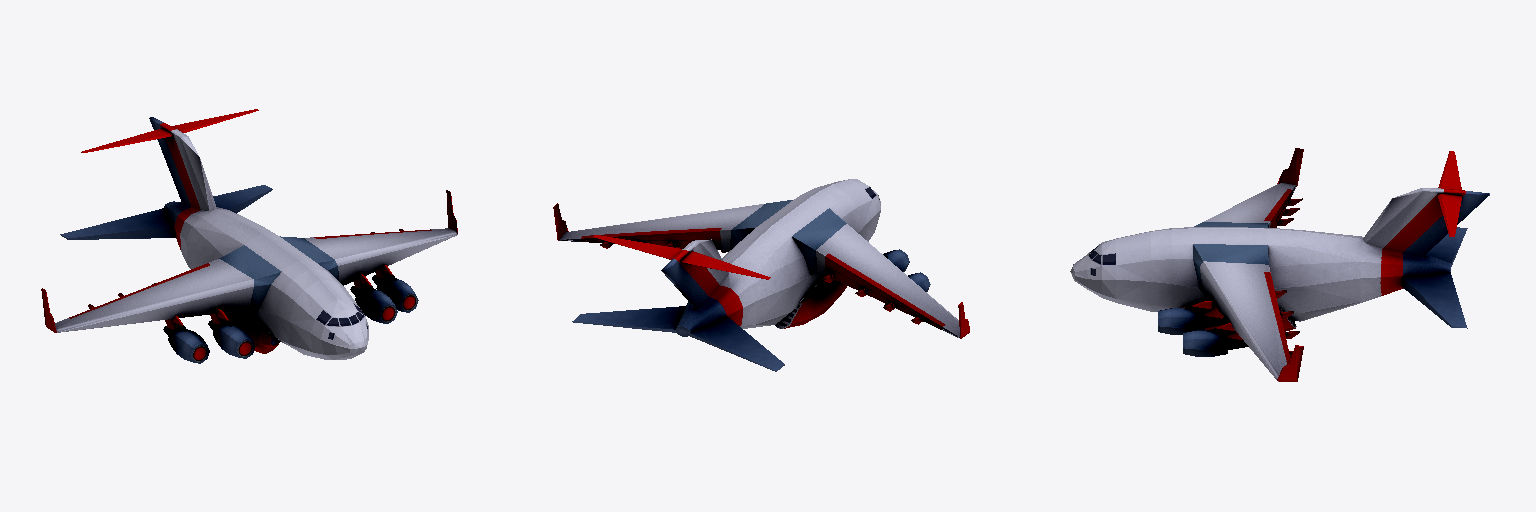
3 renders of one model, left to right at view 1: azimuth 30°, elevation 25°; view 2: azimuth 150°, elevation 25°; view 3: azimuth 270°, elevation 25°, orthographic.
Parts seen in each view (by area): view 1: Catoon_C17; view 2: Catoon_C17; view 3: Catoon_C17.
Part boxes in pixels (bbox=[...]): Catoon_C17: bbox=[41, 109, 457, 363]; Catoon_C17: bbox=[553, 179, 969, 371]; Catoon_C17: bbox=[1070, 148, 1489, 381].
Bounding box in the file's own units: 92.07 × 28.93 × 82.4.
1 materials, 1 textured.